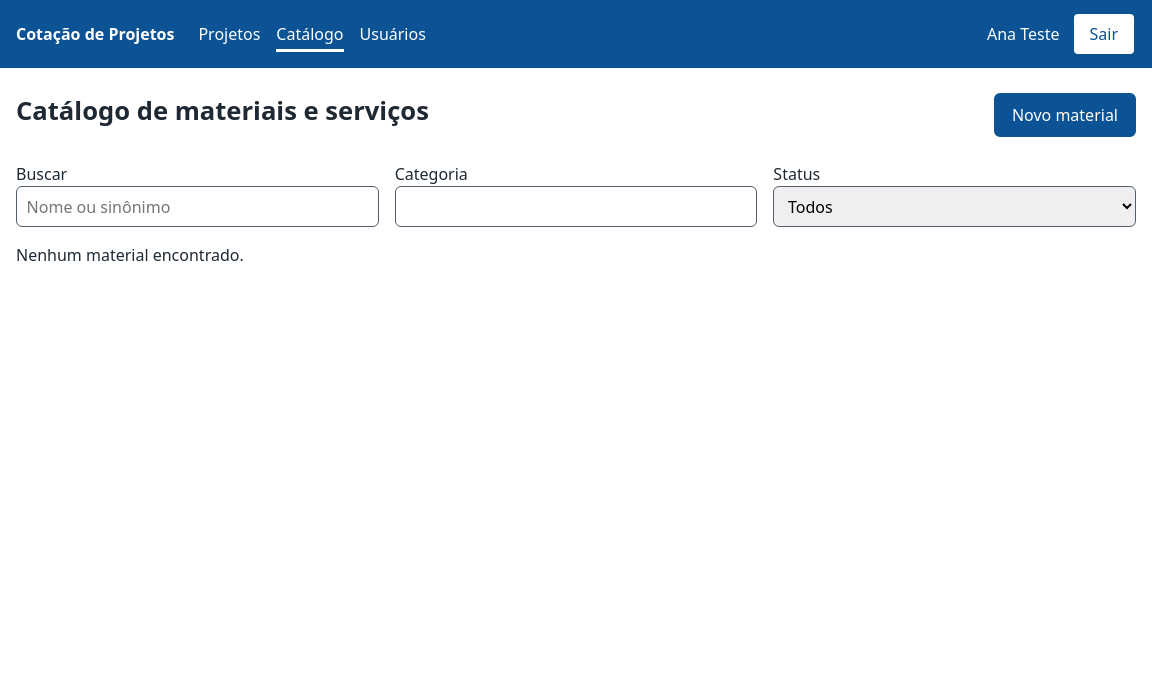
Test: Catálogo para o Admin › recusa preço com mais de duas casas decimais
The width and height of the screenshot is (1152, 685).
Click the button "Novo material" at (1065, 115), box [994,93,1136,137]
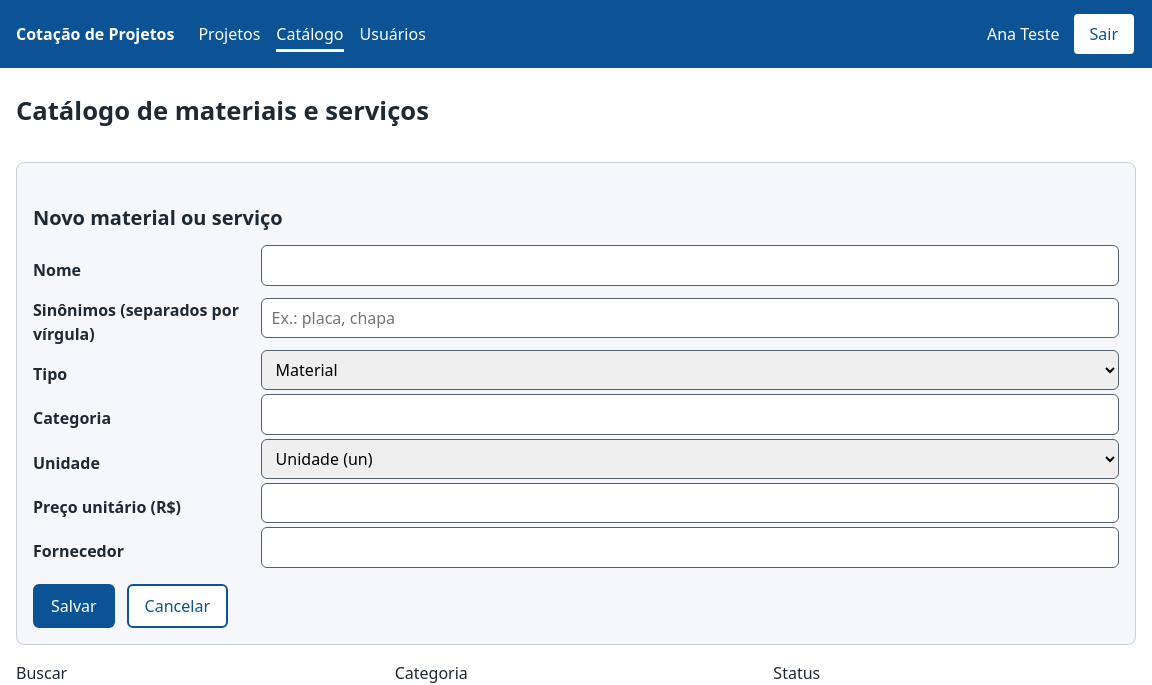
Type "1.234" into the number field labelled "Preço unitário (R$)" at (690, 503), box [261,483,1119,523]
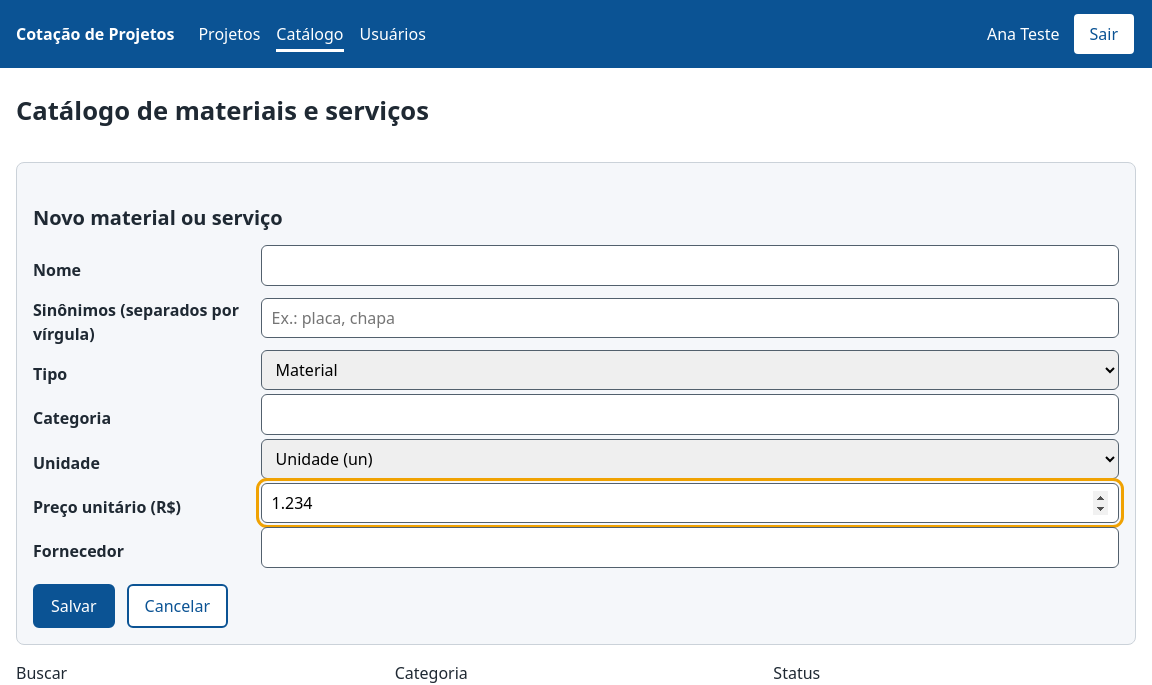
Click the button "Salvar" at (74, 606), box [33,584,115,628]
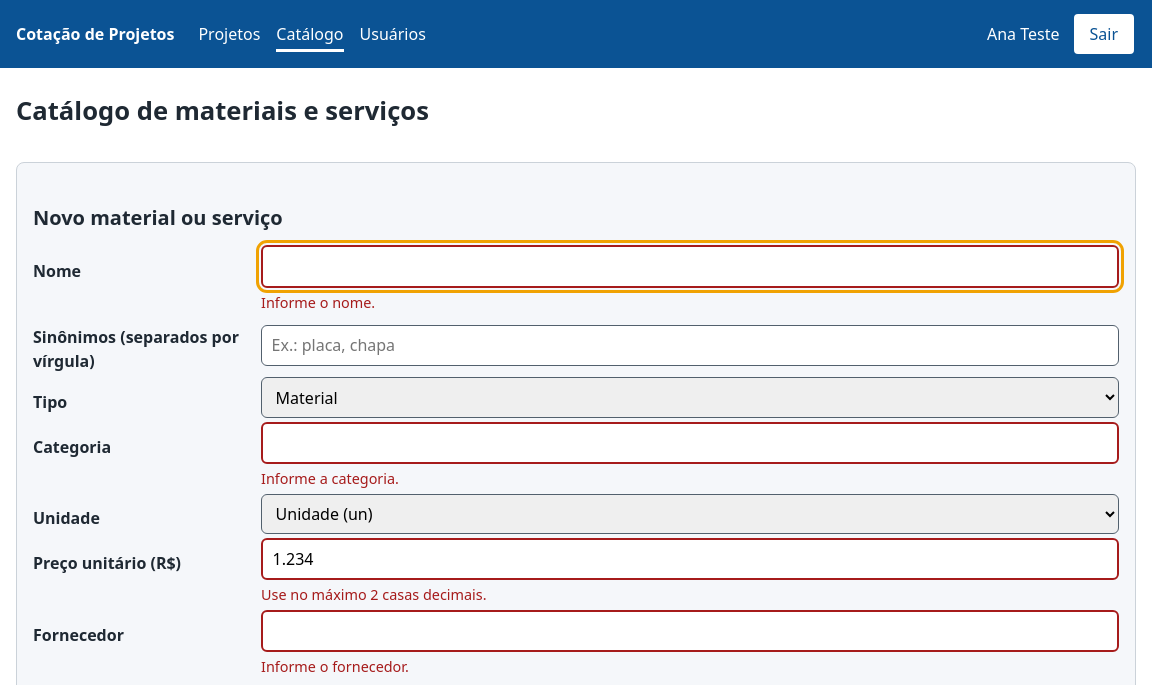
Expected: the text "Use no máximo 2 casas decimais." is shown, [261,586,486,604]
